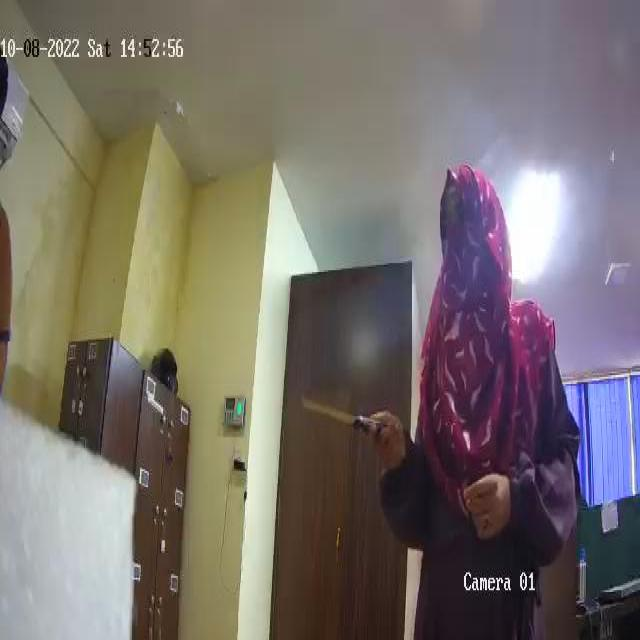Knife: (300, 393, 401, 444)
